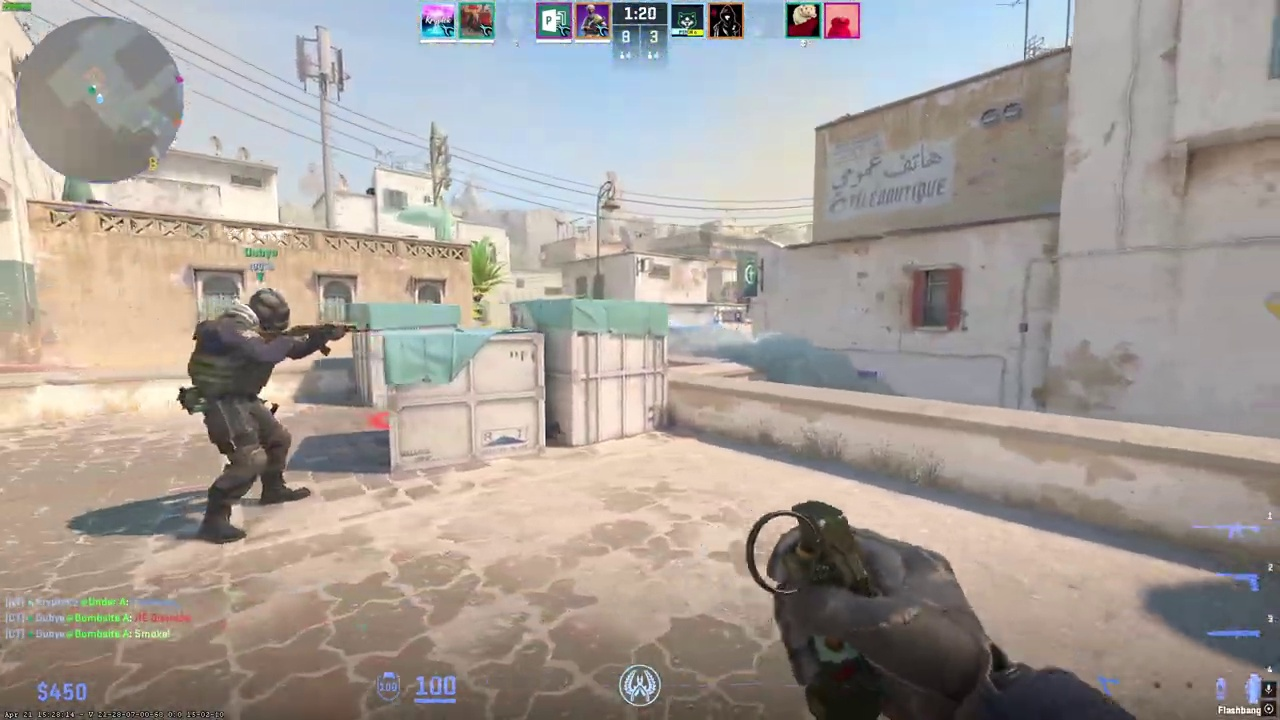CT: (187, 288, 318, 544)
